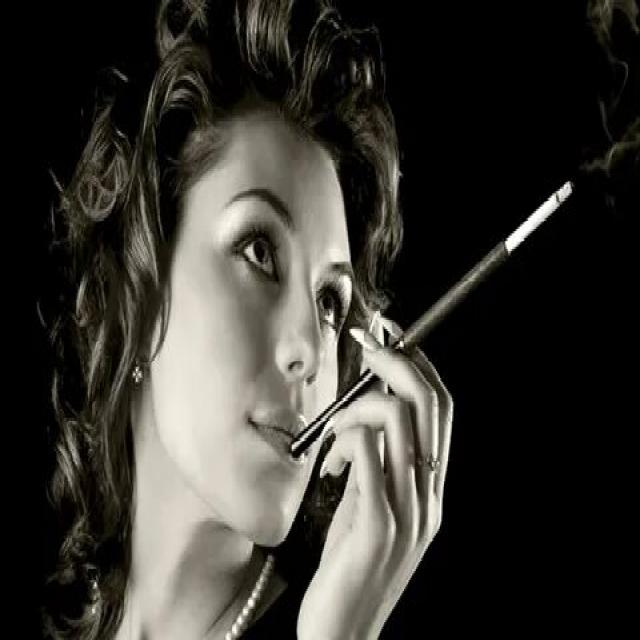cigarette: (288, 171, 573, 471)
